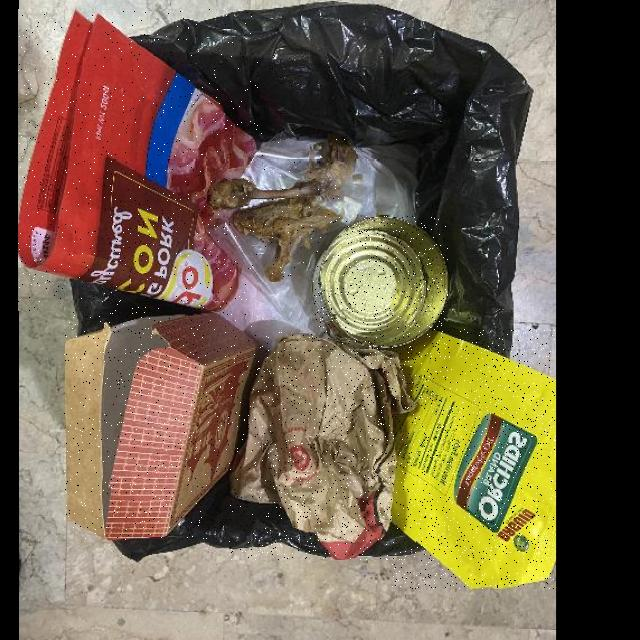biowaste: (207, 133, 359, 211), (234, 197, 346, 282)
metal: (313, 216, 448, 346)
paper: (65, 312, 259, 540), (229, 332, 416, 559)
wrapper: (19, 9, 258, 310), (392, 328, 556, 589)
